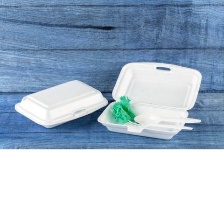foam_box: (92, 57, 206, 143), (10, 77, 109, 130)
